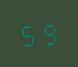five: (19, 21, 38, 47)
nine: (39, 20, 58, 45)
